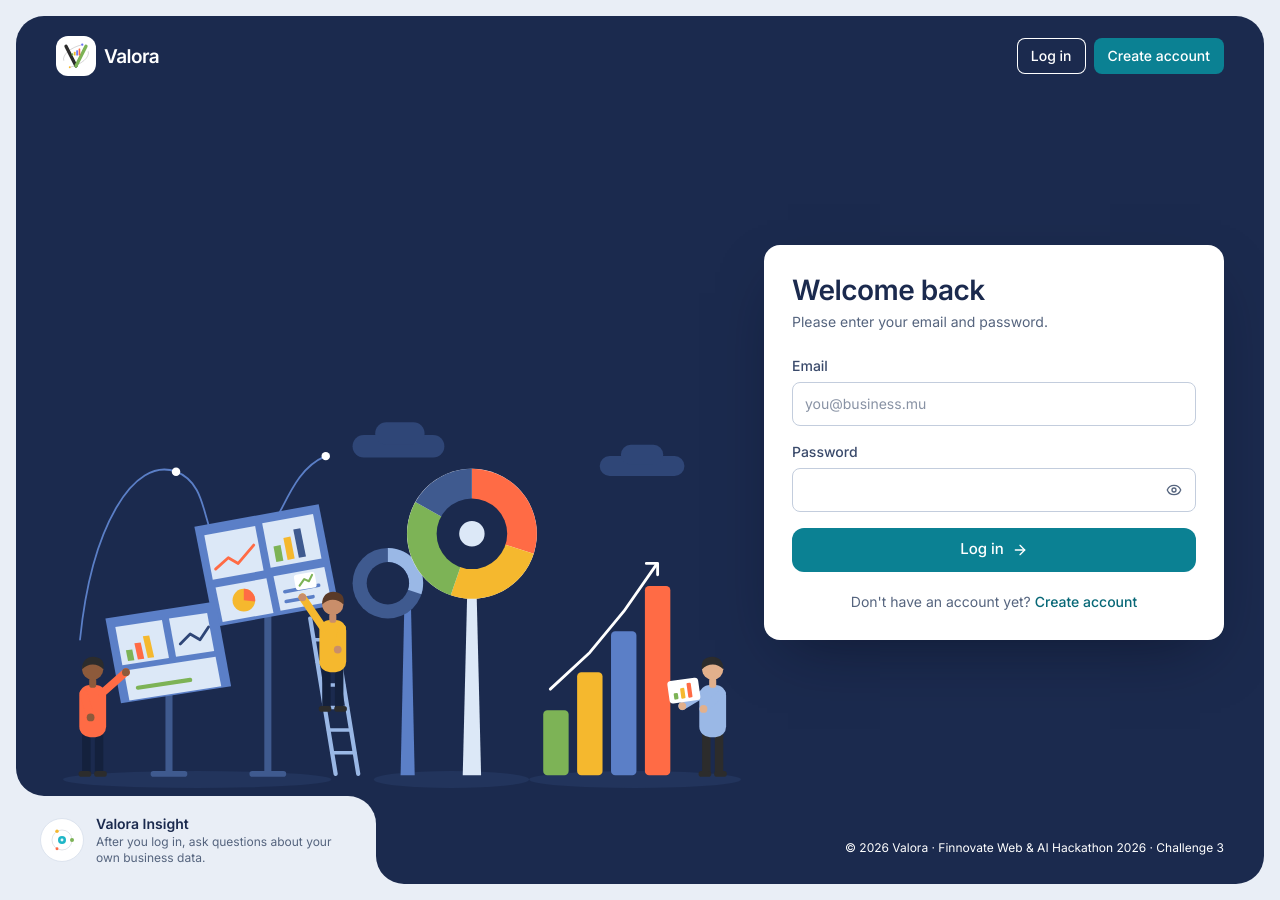
Test: Login › shows the generic server message on failure and never echoes the password
The image size is (1280, 900).
Type "owner@coastal.demo" into the field labelled "Email" at (994,404), box [792,382,1196,426]
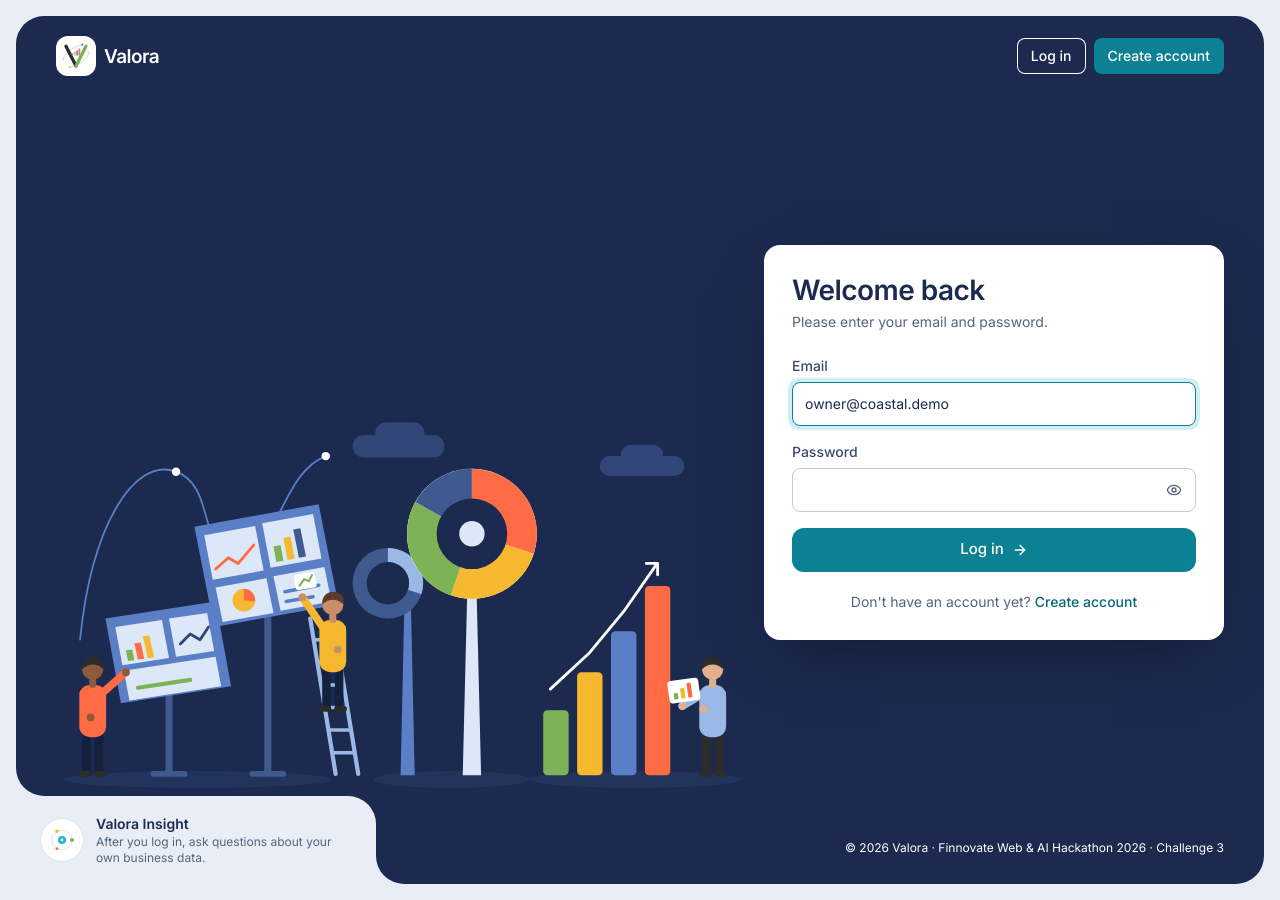
Type "wrong-secret" into the password field labelled "Password" at (994,490), box [792,468,1196,512]
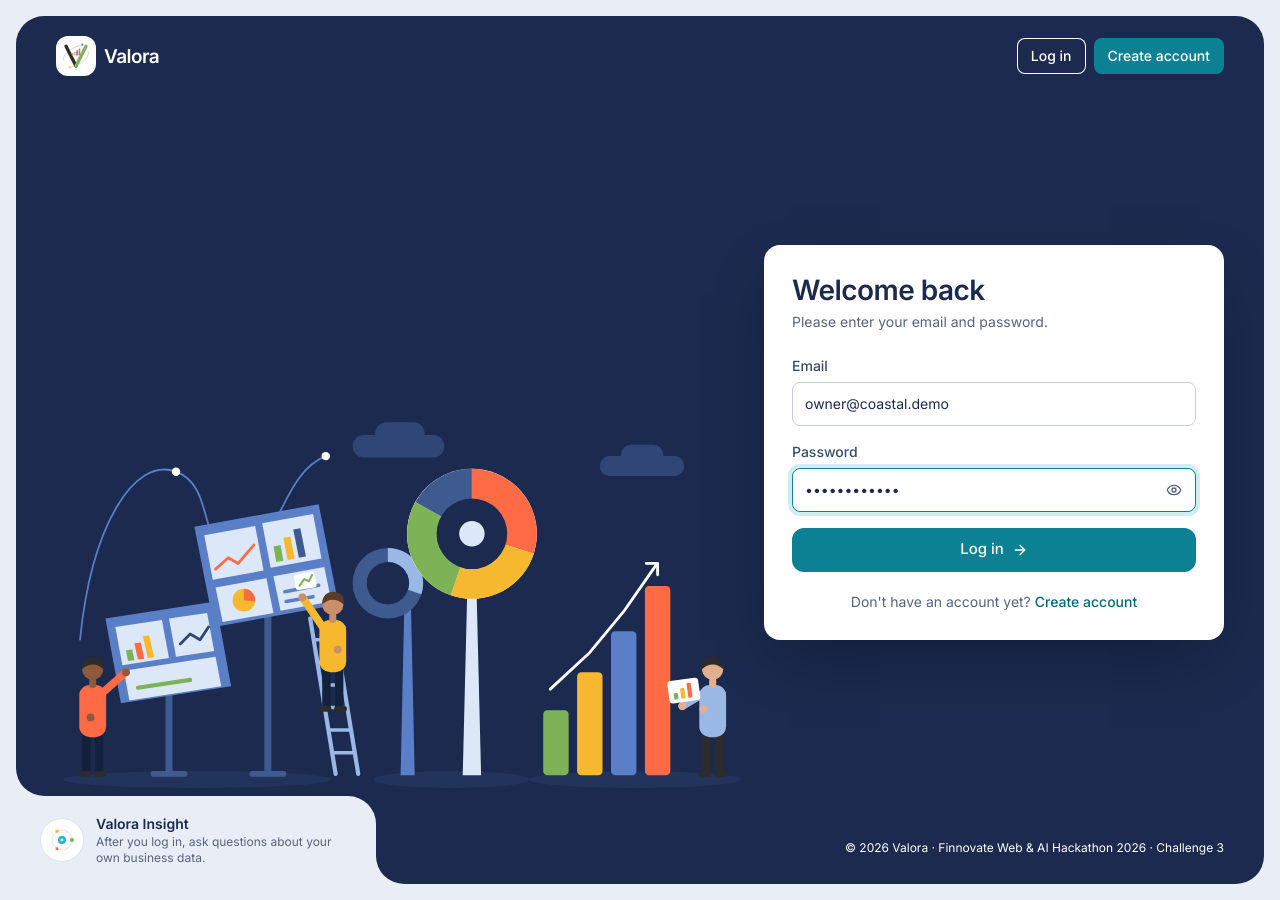
Click the button "Log in" at (994,550), box [792,528,1196,572]
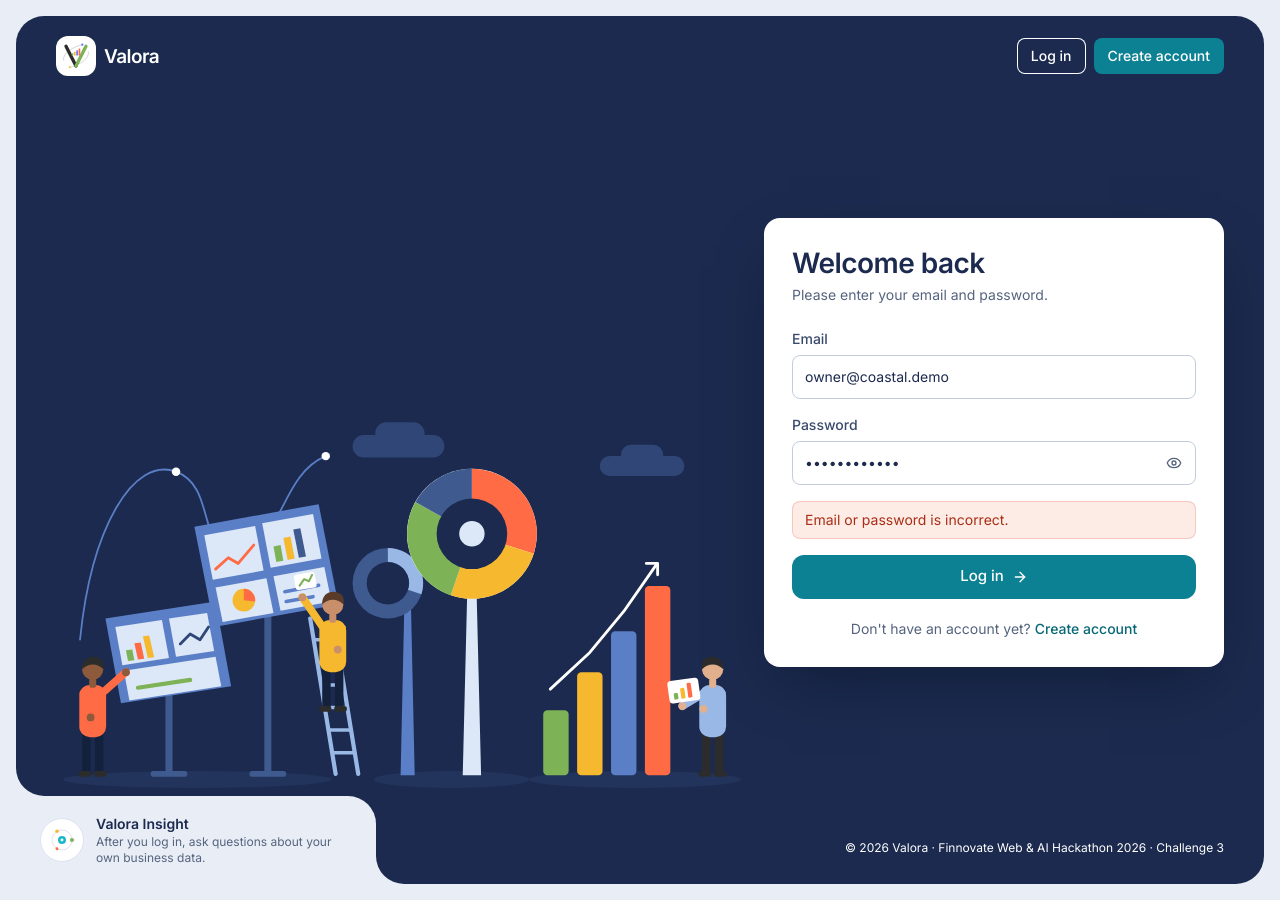
Now the message reads "Email or password is incorrect.", box [805,510,1008,528]
